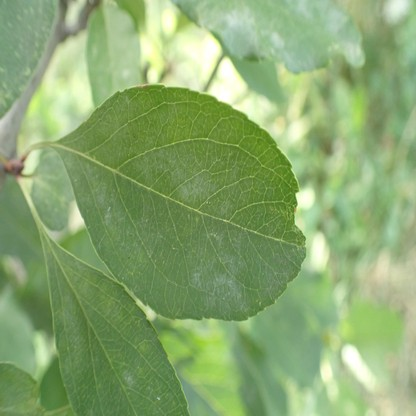powdery_mildew: (52, 83, 307, 321), (43, 236, 192, 416), (196, 0, 364, 74)
